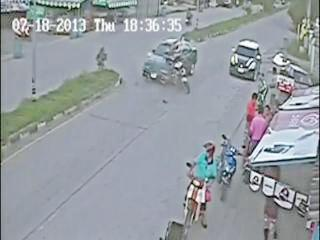Car: (148, 38, 195, 81), (232, 40, 260, 78)
Minor Accident: (148, 37, 195, 93)
Motor: (182, 146, 214, 226), (169, 39, 191, 91), (217, 139, 233, 183)
